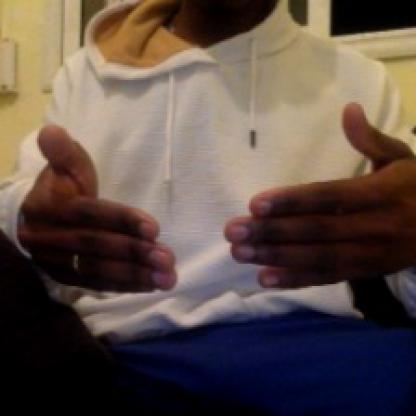TURN LEFT: (13, 93, 414, 343)
